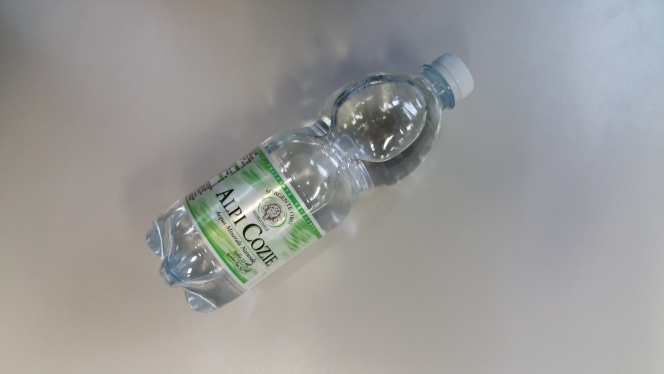bottle: (126, 50, 476, 317)
